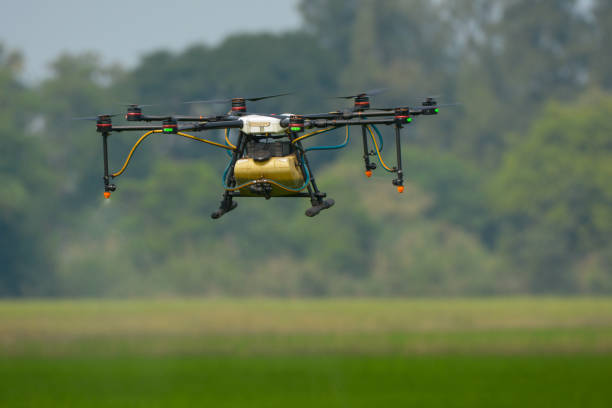Drone: (66, 87, 446, 225)
